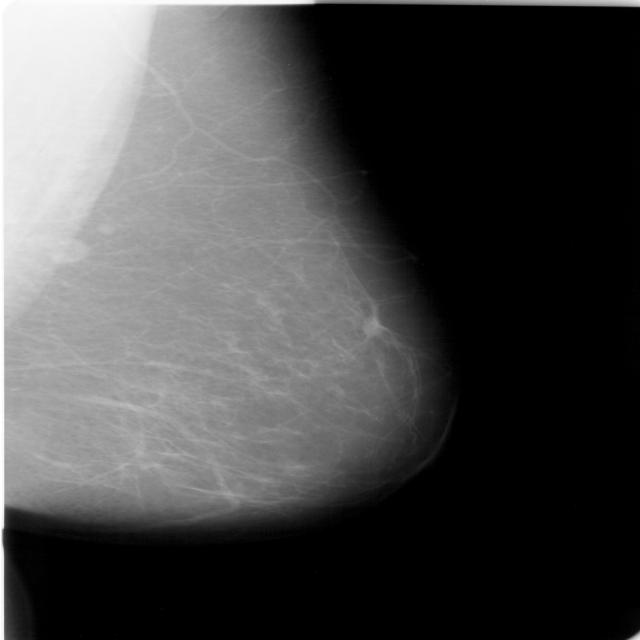normal: (0, 0, 417, 539)
